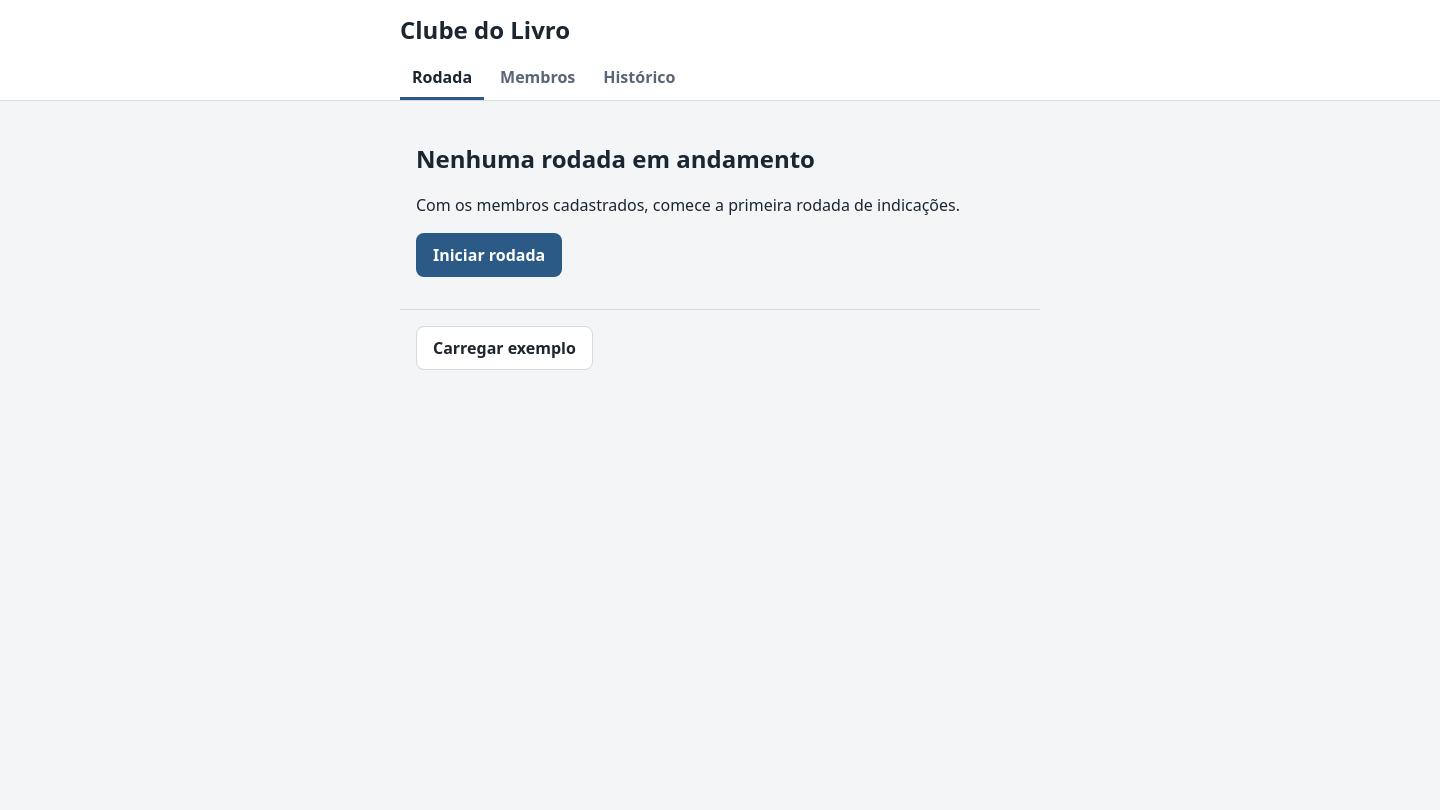
Test case: R14: carrega e salva o exemplo pelo botão do clube vazio
Click the button "Carregar exemplo" at (504, 348), box [416,326,593,370]
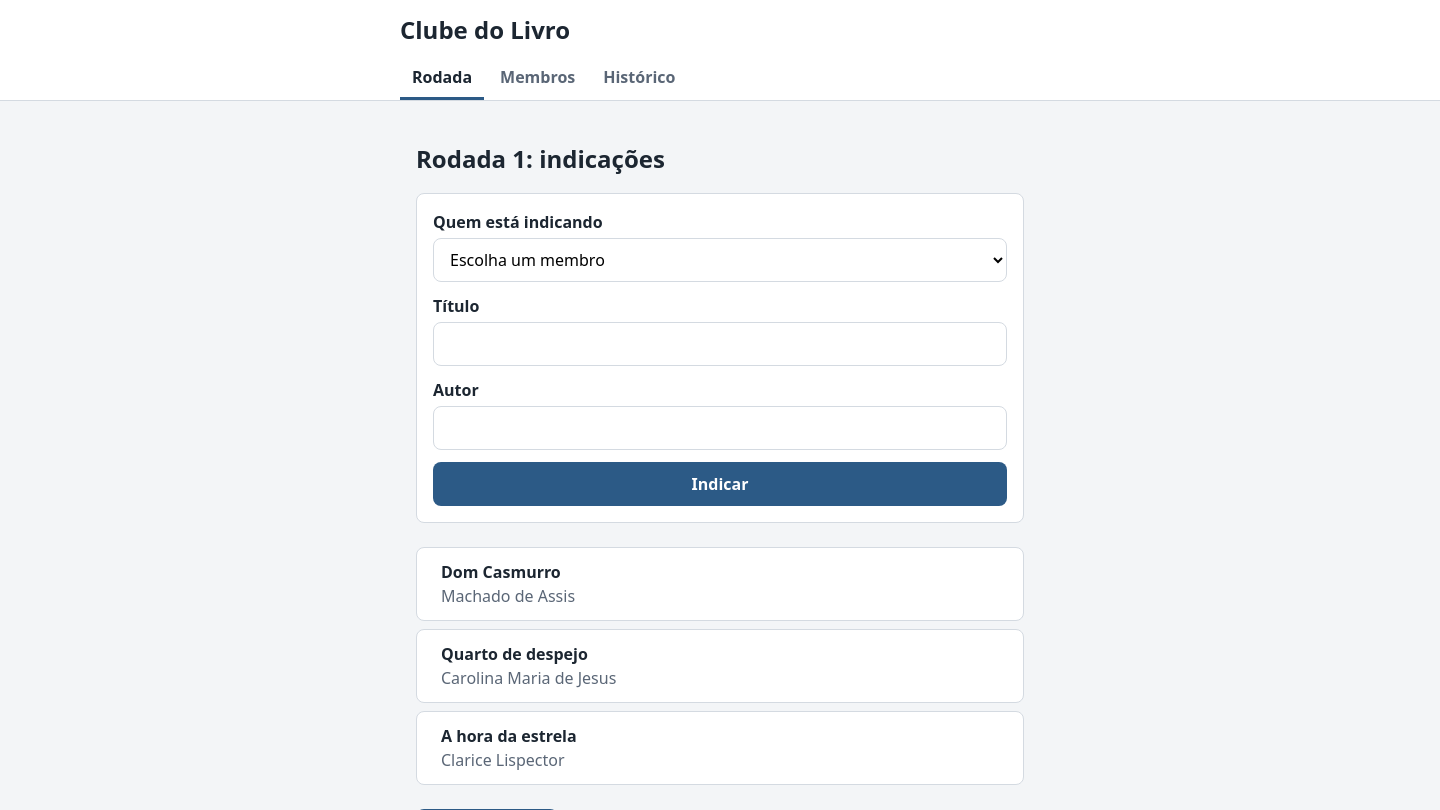
Result: the heading "Rodada 1: indicações" is shown at [416,142,665,175]
Result: the button "Carregar exemplo" is gone
